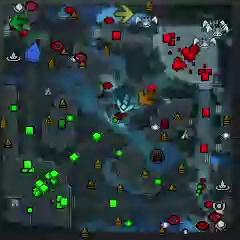p1: (25, 43, 42, 63)
x2: (115, 5, 134, 24)
x3: (115, 93, 134, 114)
x4: (10, 14, 28, 32)
x5: (139, 89, 155, 106)
